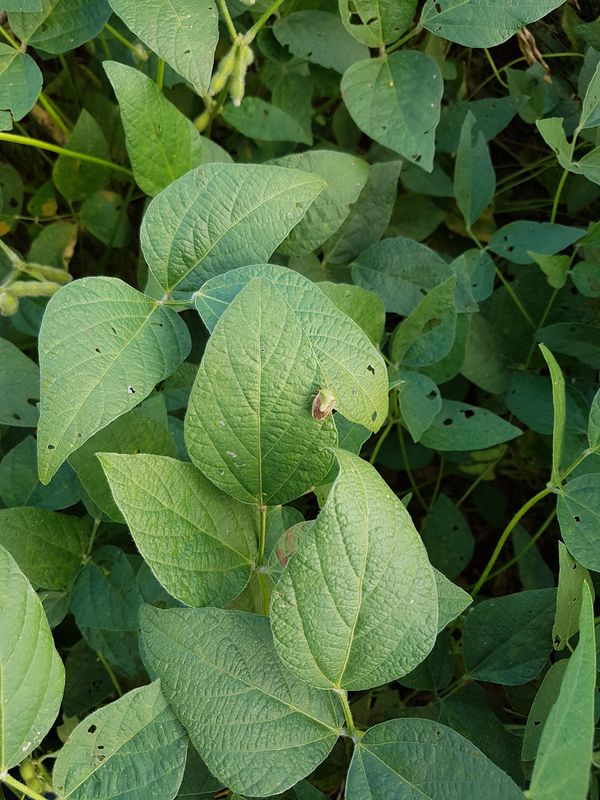Edessa_meditabunda: (299, 372, 346, 426)
